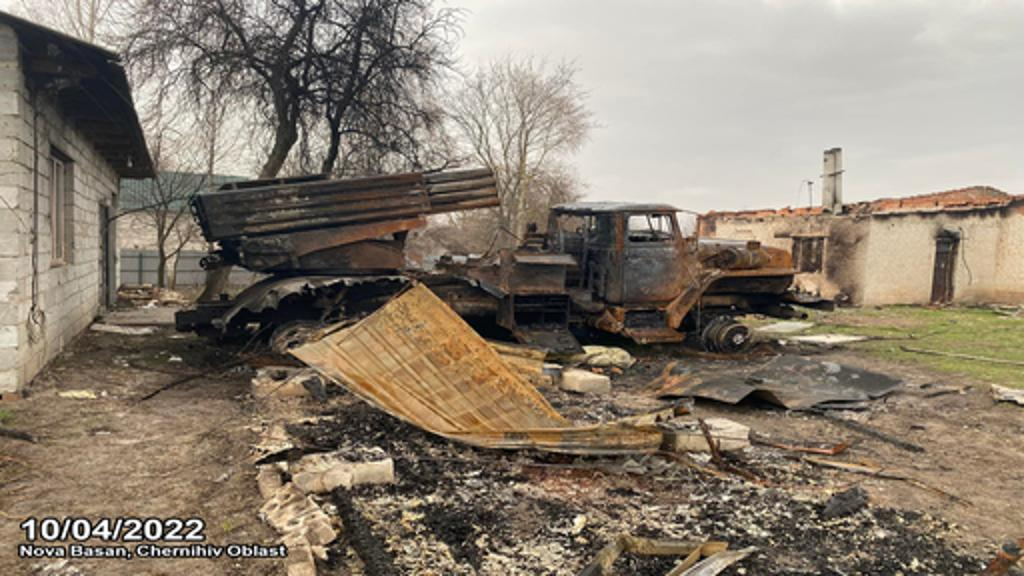MLRS: (176, 158, 800, 368)
